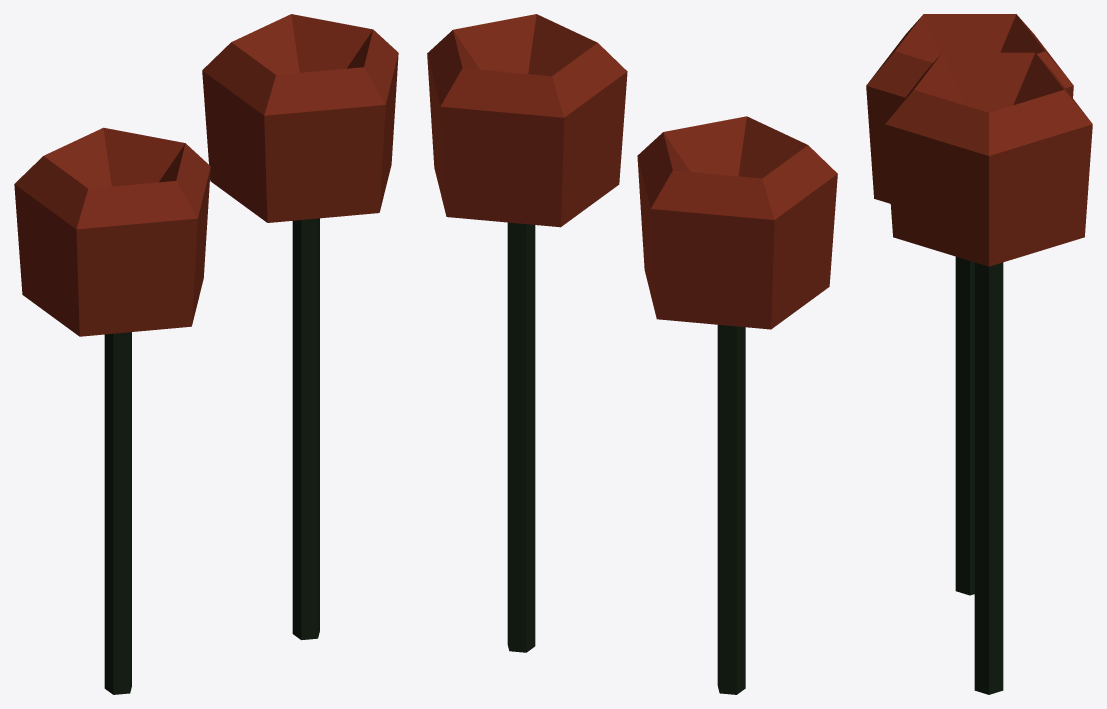
The model's file is Flower_Tulip_Cluster_01.fbx.
3 views of the same model, side by side, from view 1: azimuth 30°, elevation 25°; view 2: azimuth 150°, elevation 25°; view 3: azimuth 270°, elevation 25° (orthographic). The views are drawn at different scales.
Visible parts, largest first — view 1: Flower_Tulip_Cluster_01_Mesh; view 2: Flower_Tulip_Cluster_01_Mesh; view 3: Flower_Tulip_Cluster_01_Mesh.
Boxes of the visible parts, bbox=[...] form: Flower_Tulip_Cluster_01_Mesh: bbox=[14, 14, 398, 694]; Flower_Tulip_Cluster_01_Mesh: bbox=[427, 14, 837, 694]; Flower_Tulip_Cluster_01_Mesh: bbox=[866, 14, 1092, 694].
Size of the model in its own units: 0.2576 by 0.4 by 0.1349.
1 material, 1 textured.
